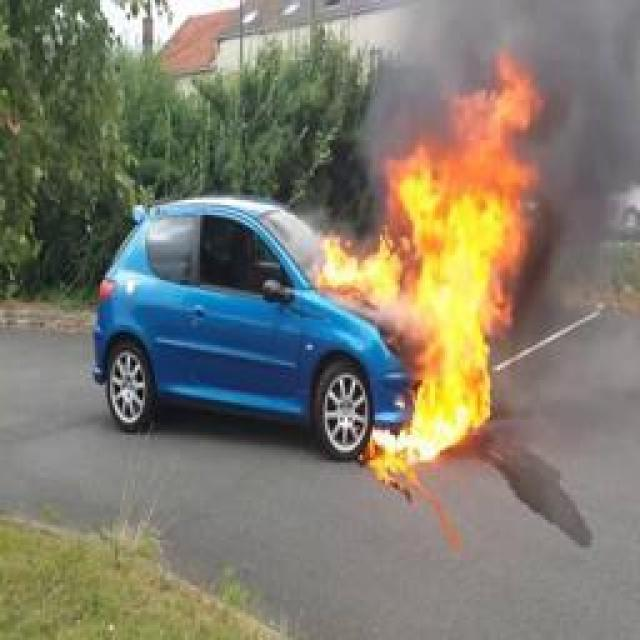Fire: (324, 54, 542, 464)
